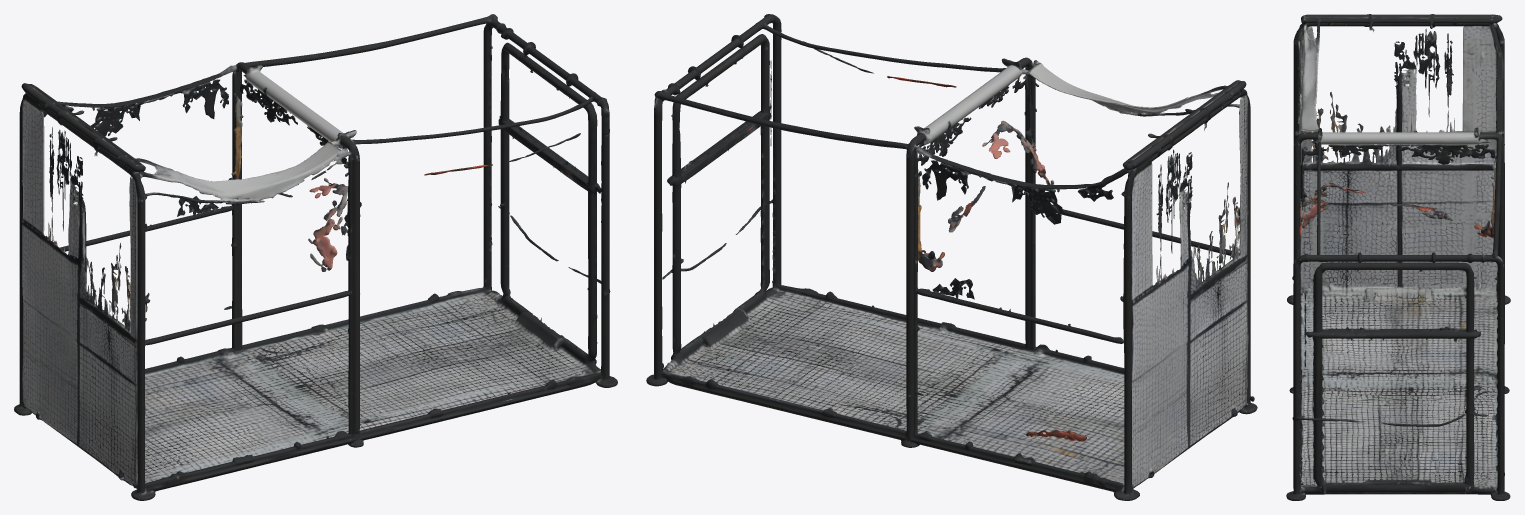
The model's file is building-batting-cage.glb.
The picture shows the model from 3 angles, left to right: view 1: azimuth 30°, elevation 25°; view 2: azimuth 150°, elevation 25°; view 3: azimuth 270°, elevation 25°; orthographic projection. The views are drawn at different scales.
Visible parts, largest first — view 1: tripo_node_aaf1a649-cd53-4bae-b111-514e81bb8e13; view 2: tripo_node_aaf1a649-cd53-4bae-b111-514e81bb8e13; view 3: tripo_node_aaf1a649-cd53-4bae-b111-514e81bb8e13.
Boxes of the visible parts, bbox=[...] form: tripo_node_aaf1a649-cd53-4bae-b111-514e81bb8e13: bbox=[14, 14, 617, 500]; tripo_node_aaf1a649-cd53-4bae-b111-514e81bb8e13: bbox=[646, 14, 1257, 500]; tripo_node_aaf1a649-cd53-4bae-b111-514e81bb8e13: bbox=[1286, 14, 1510, 500].
Size of the model in its own units: 7.68 by 5 by 3.56.
1 material, 1 textured.
